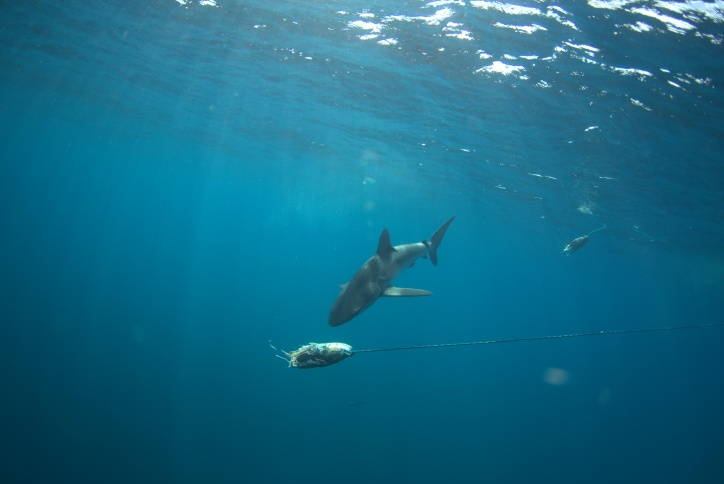Sedoso: (323, 201, 469, 332)
